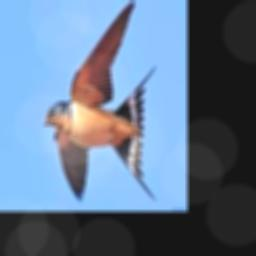Swallow: (40, 0, 156, 201)
